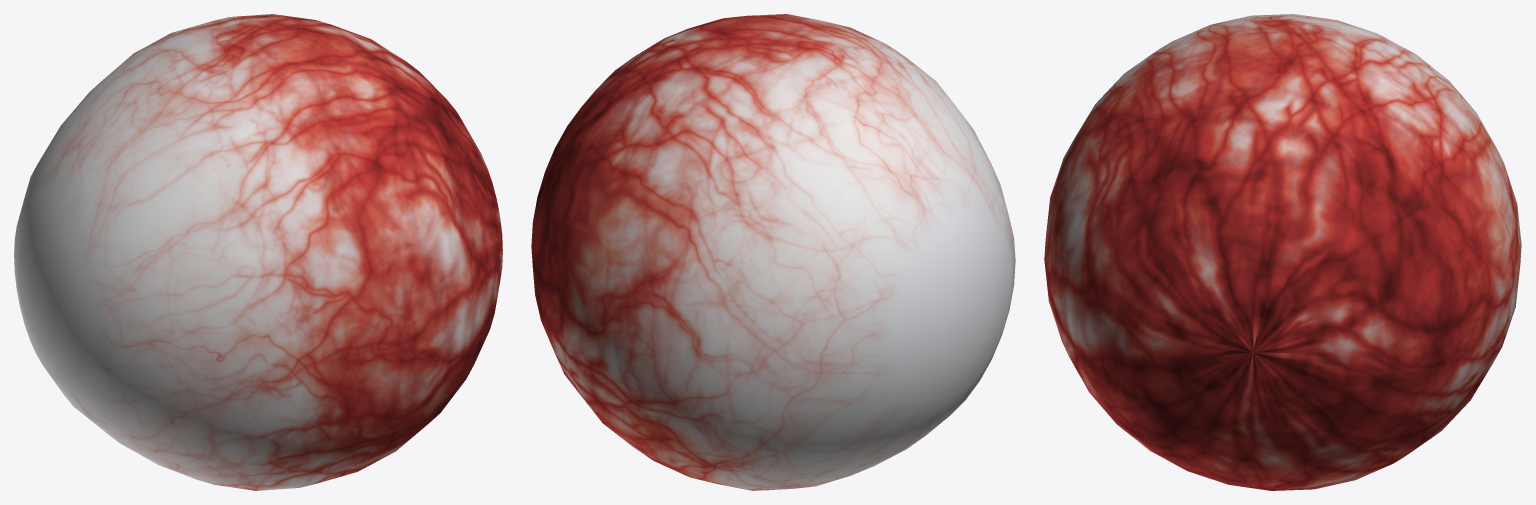
File: eyeBaked.glb
The picture shows the model from 3 angles, left to right: view 1: azimuth 30°, elevation 25°; view 2: azimuth 150°, elevation 25°; view 3: azimuth 270°, elevation 25°; orthographic projection.
Visible parts, largest first — view 1: Sphere.001; view 2: Sphere.001; view 3: Sphere.001.
Part boxes in pixels (x1=…): Sphere.001: x1=14, y1=14, x2=502, y2=490; Sphere.001: x1=531, y1=14, x2=1015, y2=490; Sphere.001: x1=1044, y1=14, x2=1521, y2=490.
Size of the model in its own units: 2.06 by 2.01 by 2.01.
Materials: 2 (2 with a texture image).
